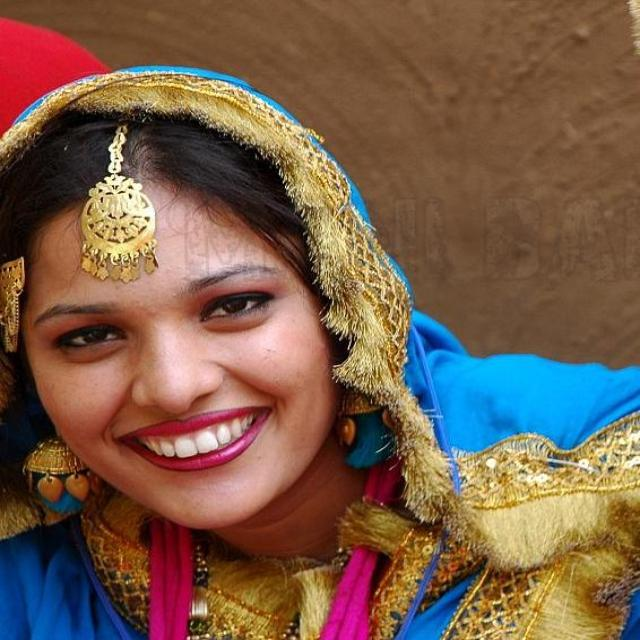no-glass: (51, 287, 284, 351)
